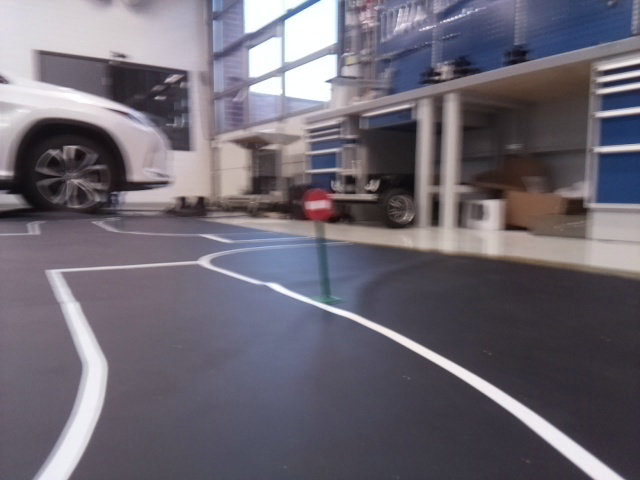NoEntry: (302, 186, 333, 223)
